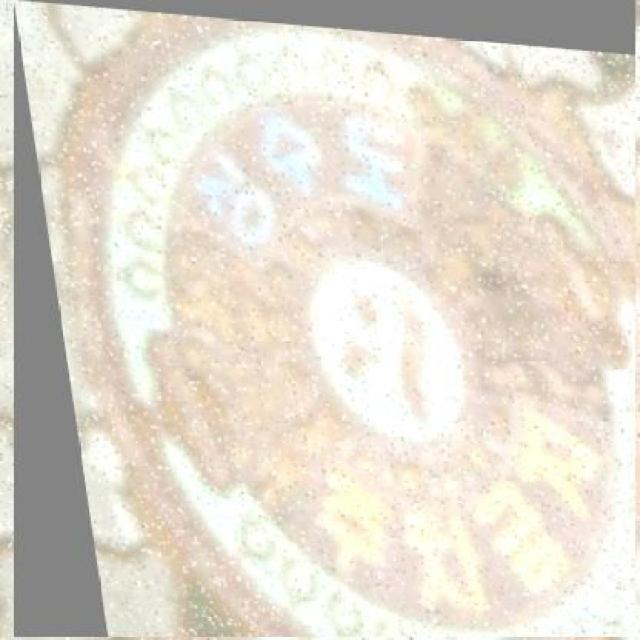Manhole: (14, 0, 636, 637)
